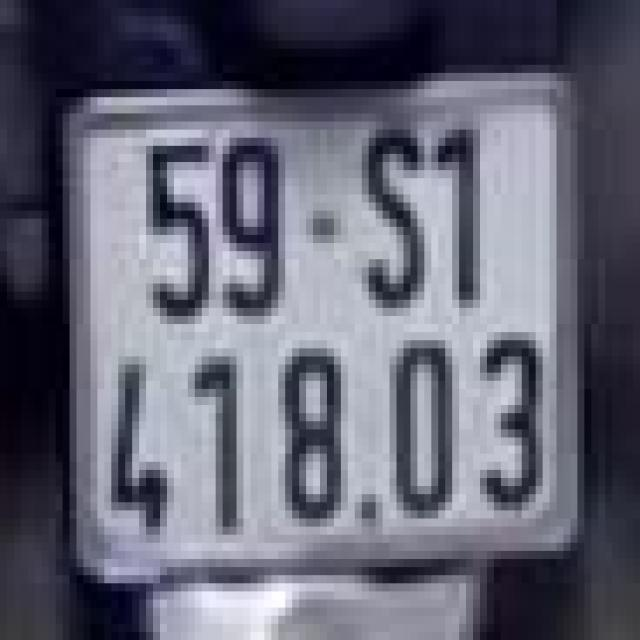0: (386, 324, 463, 527)
1: (424, 101, 494, 320), (188, 336, 250, 539)
3: (470, 320, 553, 523)
4: (94, 336, 184, 539)
5: (132, 126, 216, 328)
8: (268, 340, 351, 527)
9: (216, 122, 292, 332)
S: (344, 117, 428, 312)
